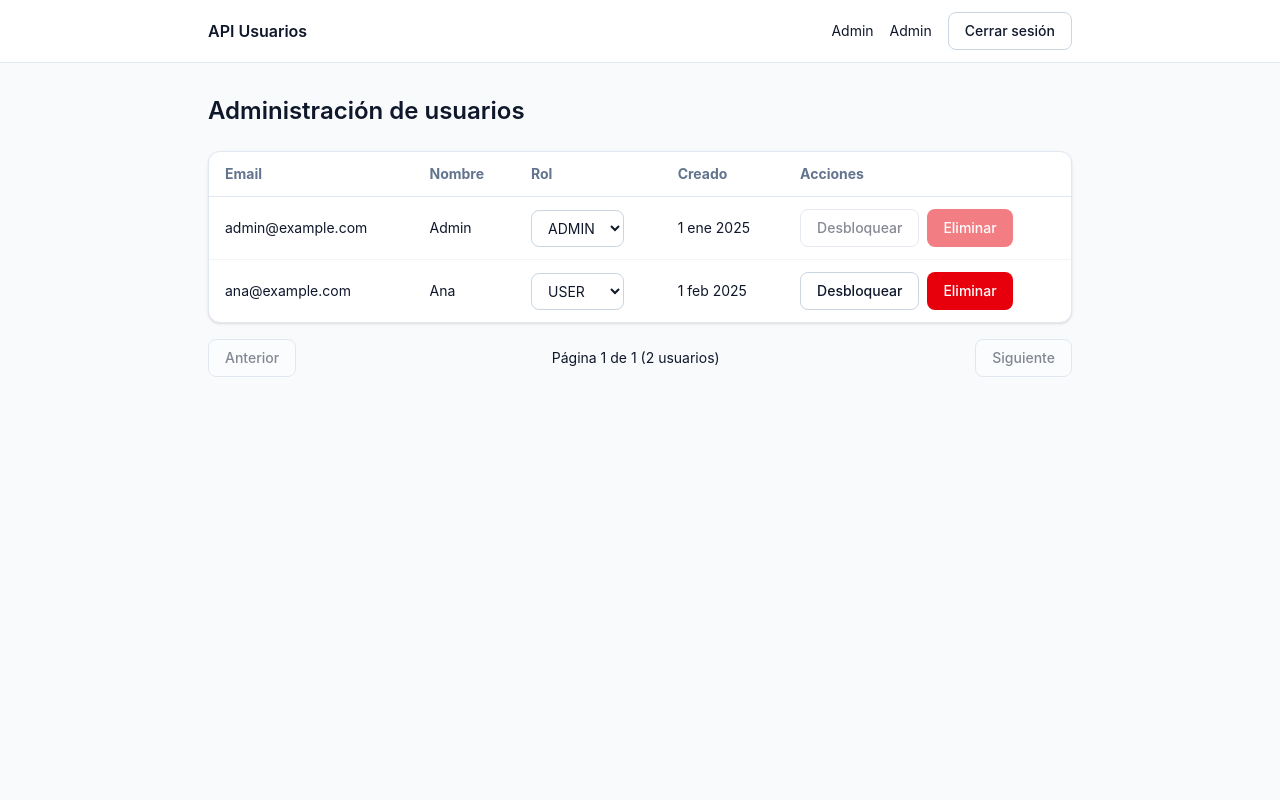
Admin › pide confirmación en un modal antes de borrar
Click the button with aria-label "Eliminar ana@example.com" at (970, 291), box x1=927 y1=272 x2=1013 y2=310
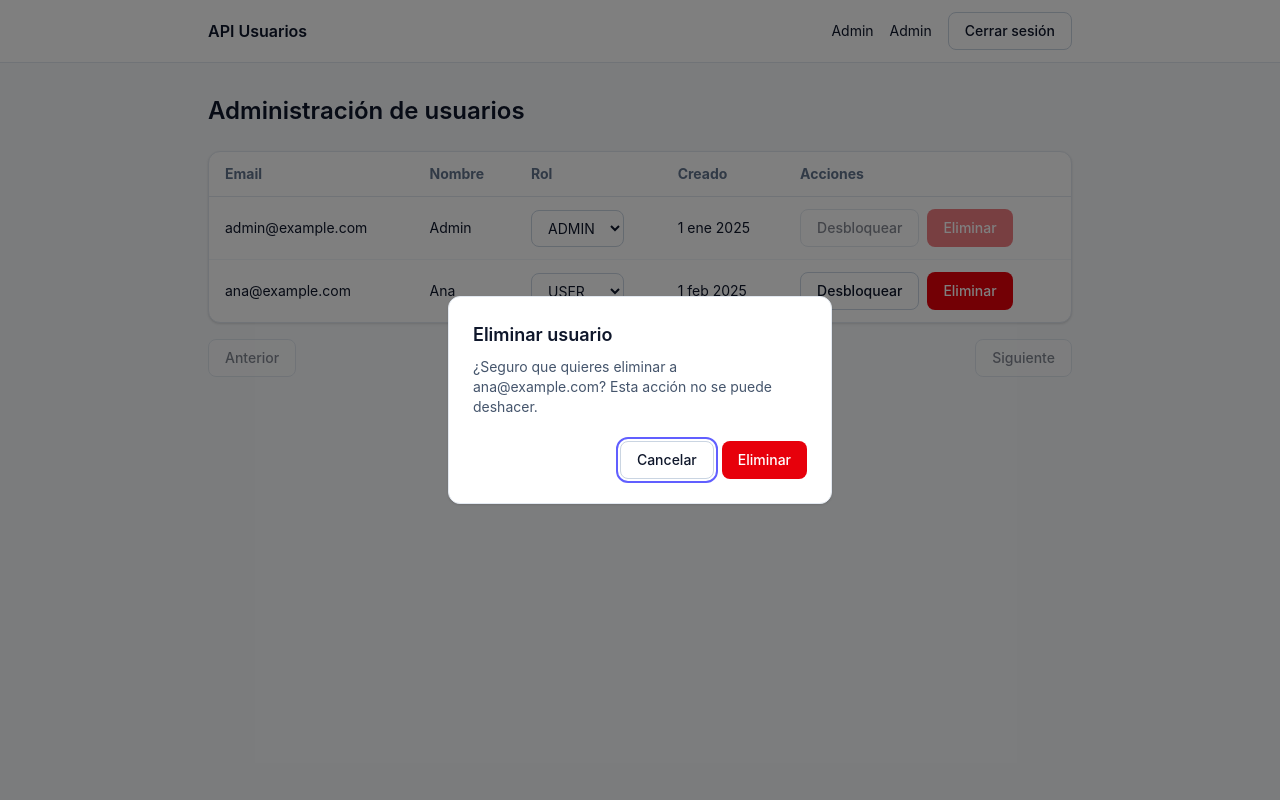
Click the button "Eliminar" at (764, 460), box x1=722 y1=441 x2=807 y2=479
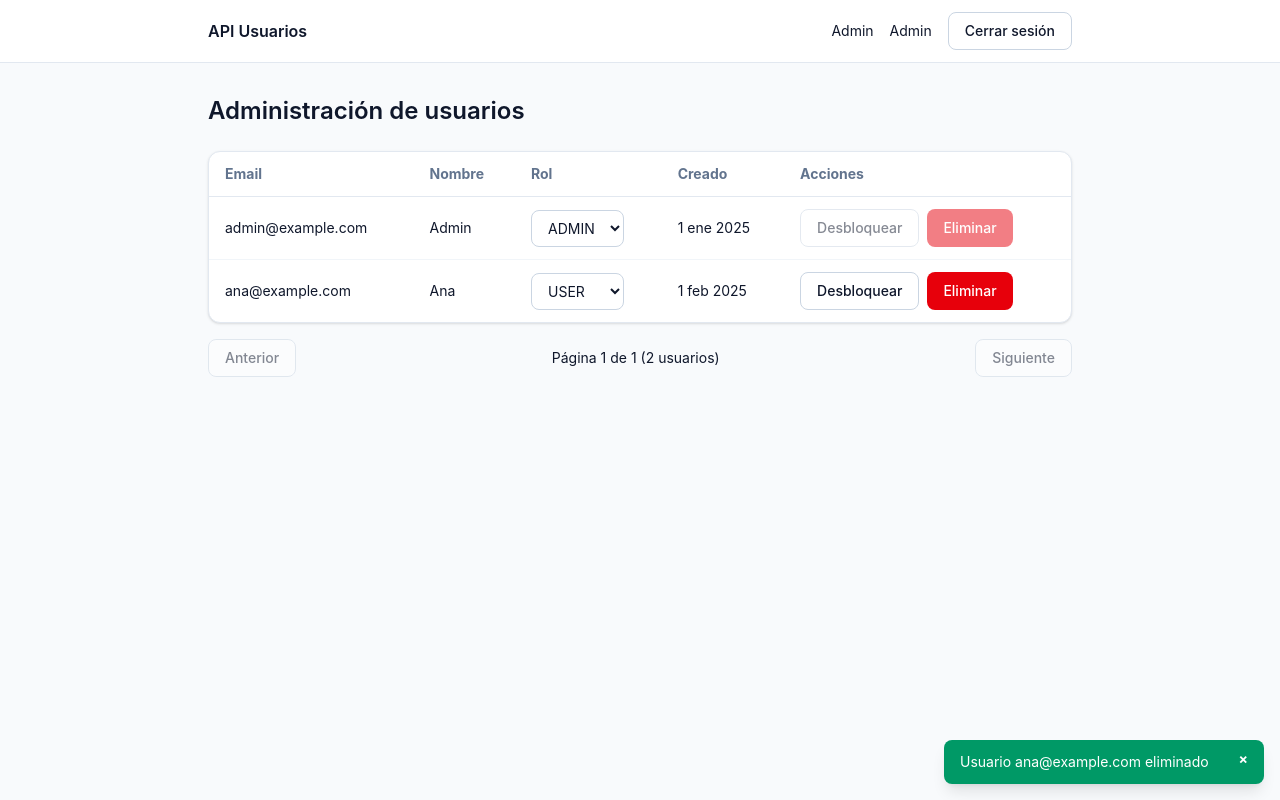
Check: the text "Usuario ana@example.com eliminado" is shown, box x1=960 y1=752 x2=1209 y2=772
